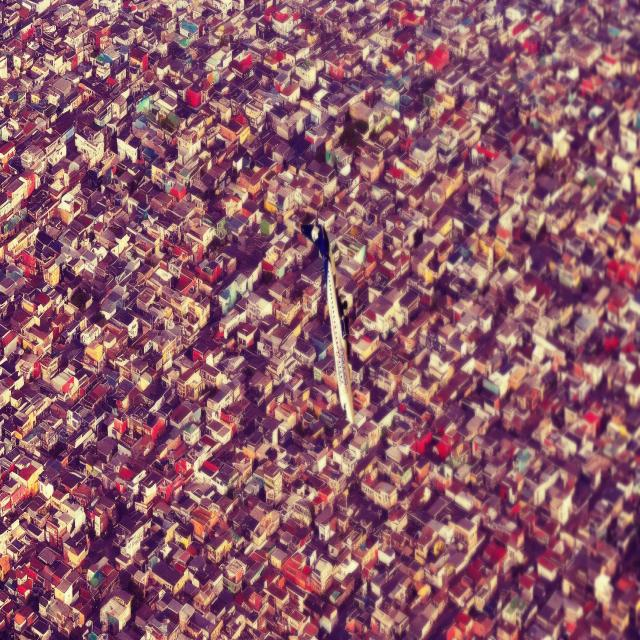airplane: (308, 210, 358, 431)
